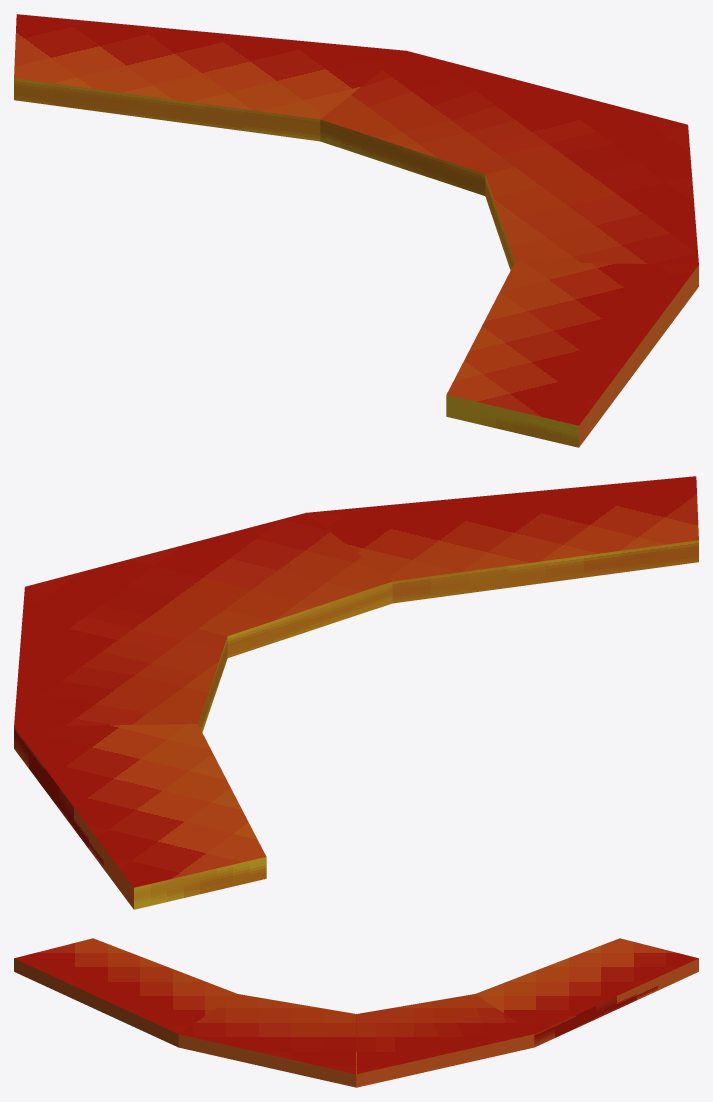
3 views of the same model, one above another, from view 1: azimuth 30°, elevation 25°; view 2: azimuth 150°, elevation 25°; view 3: azimuth 270°, elevation 25° (orthographic). The views are drawn at different scales.
Parts seen in each view (by area): view 1: cube; view 2: cube; view 3: cube.
Boxes of the visible parts, x1,y1,x2,y2 form: cube: (14,14,698,447); cube: (14,476,698,909); cube: (14,938,698,1087).
Size of the model in its own units: 0.1361 by 0.00625 by 0.2895.
1 material, 1 textured.
